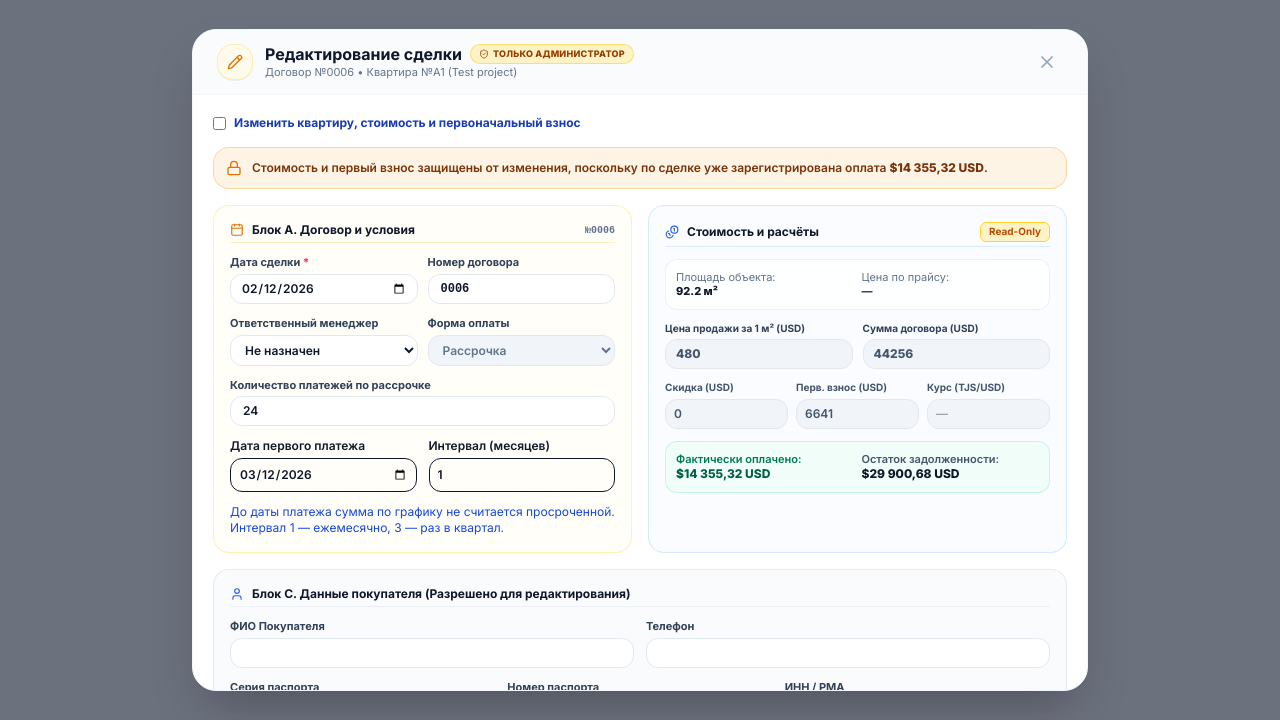
Scenario: contract amendment form › calculates cents without whole-dollar rounding
Click the checkbox labelled "Изменить квартиру, стоимость и первоначальный взнос": (220, 123) [213, 117, 226, 130]
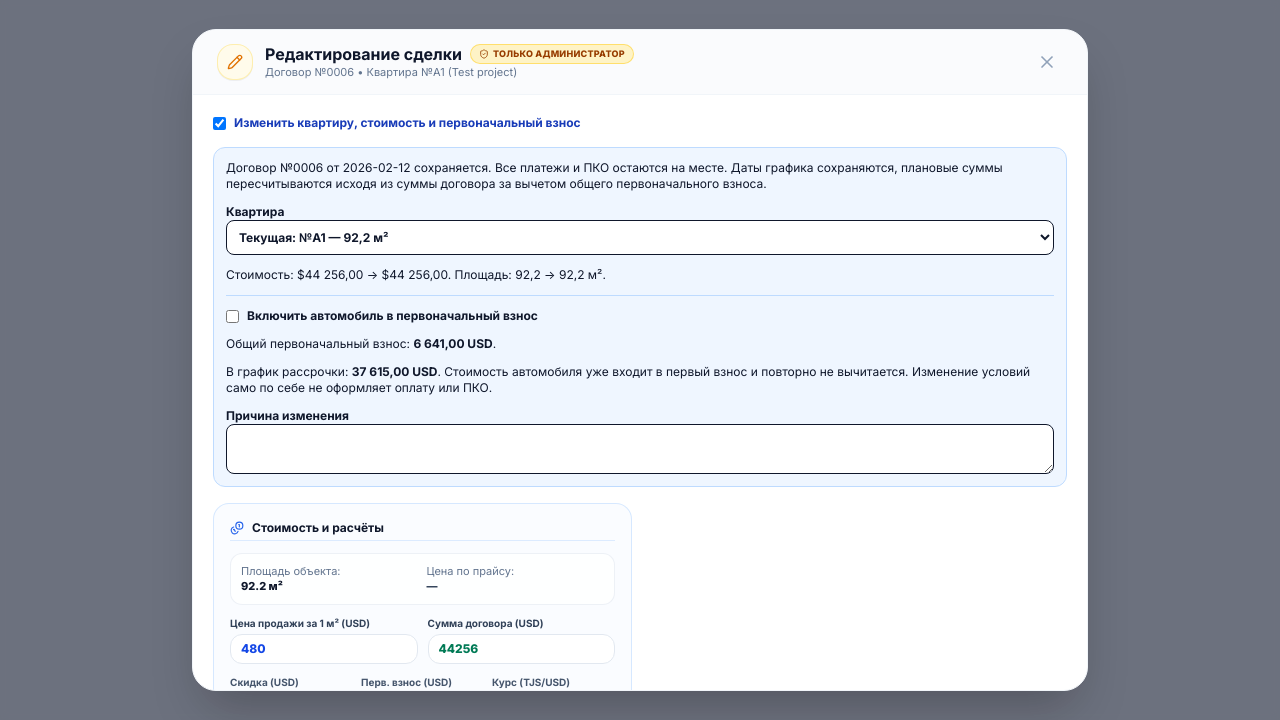
Replace the text in the number field showing "480" below "Цена продажи за 1 м² (USD)" with "480.01": (324, 649) [230, 634, 418, 664]
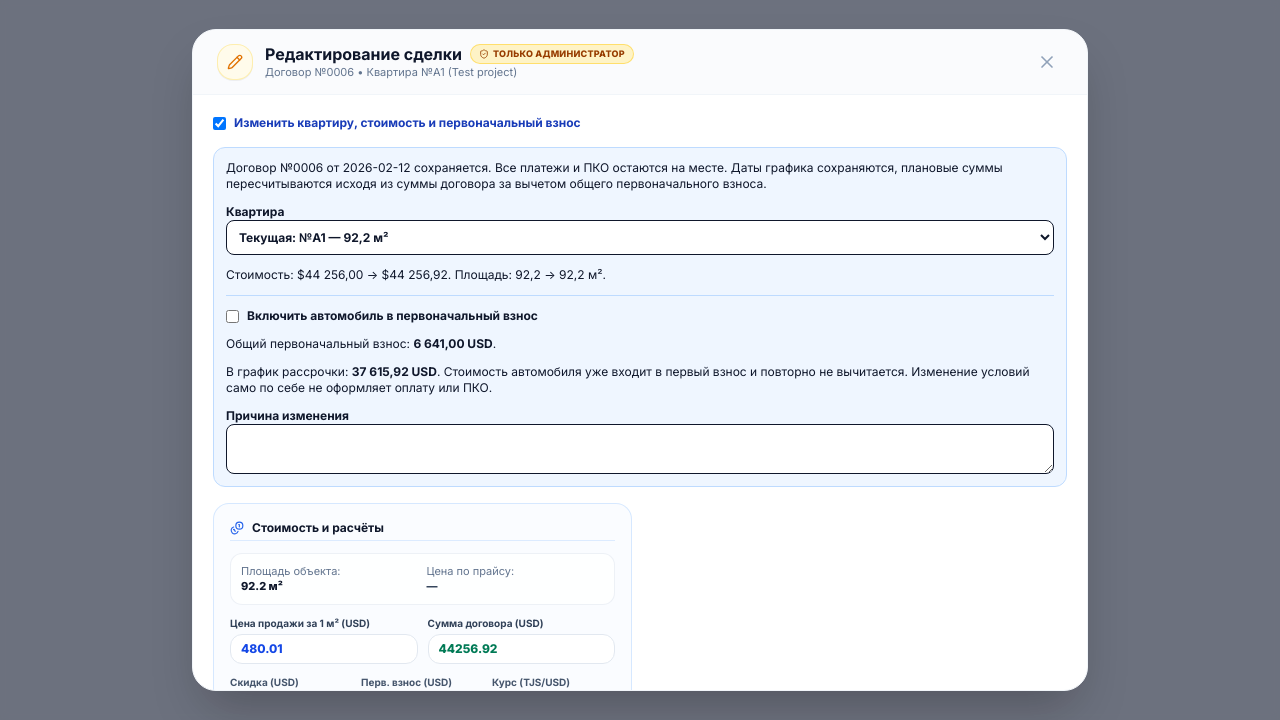
Expected: the number field showing "44256.92" below "Сумма договора (USD)" is shown, [428, 634, 615, 664]
